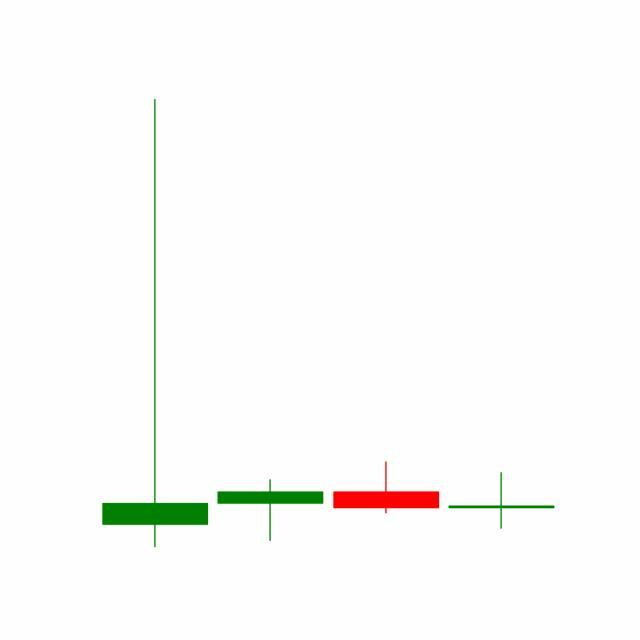Spinning Top: (444, 472, 560, 531)
